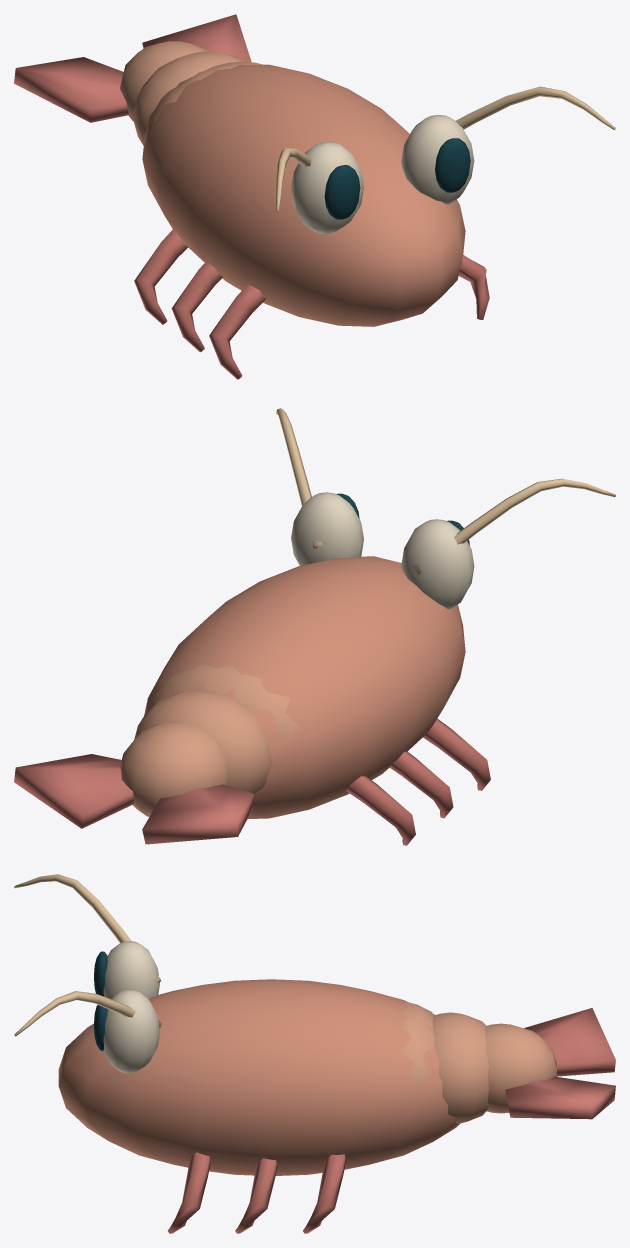
The model's file is shrimp.glb.
3 renders of one model, top to bottom at view 1: azimuth 30°, elevation 25°; view 2: azimuth 150°, elevation 25°; view 3: azimuth 270°, elevation 25°, orthographic. The views are drawn at different scales.
Parts seen in each view (by area): view 1: food_shrimp_painted_mesh; view 2: food_shrimp_painted_mesh; view 3: food_shrimp_painted_mesh.
Part boxes in pixels (<box>): food_shrimp_painted_mesh: <box>14,14,615,379</box>; food_shrimp_painted_mesh: <box>14,408,615,845</box>; food_shrimp_painted_mesh: <box>14,874,615,1233</box>.
Bounding box in the file's own units: 1.05 × 0.7986 × 1.78.
